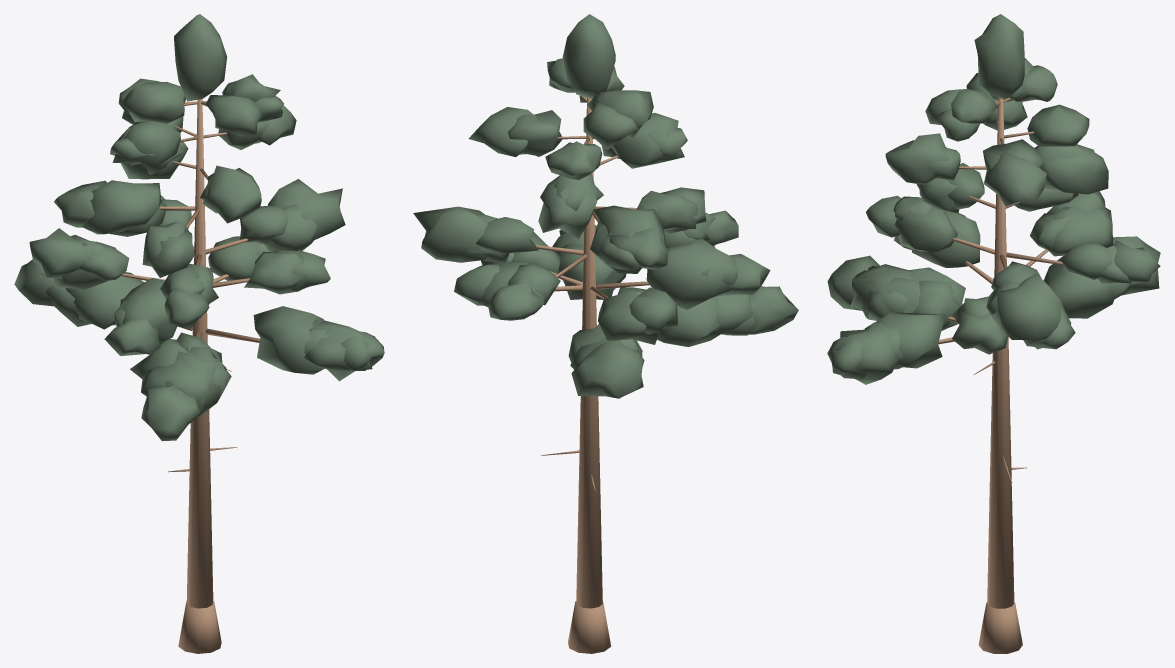
The model's file is Pino_B.fbx.
3 views of the same model, side by side, from view 1: azimuth 30°, elevation 25°; view 2: azimuth 150°, elevation 25°; view 3: azimuth 270°, elevation 25° (orthographic).
Visible parts, largest first — view 1: Pino_B_LOD0; view 2: Pino_B_LOD0; view 3: Pino_B_LOD0.
Part boxes in pixels (x1,y1,x2,y2): Pino_B_LOD0: (14, 14, 384, 653); Pino_B_LOD0: (413, 14, 798, 653); Pino_B_LOD0: (827, 14, 1160, 653).
Size of what is drawn, in the model's own units: 7.32 by 15.08 by 7.22.
